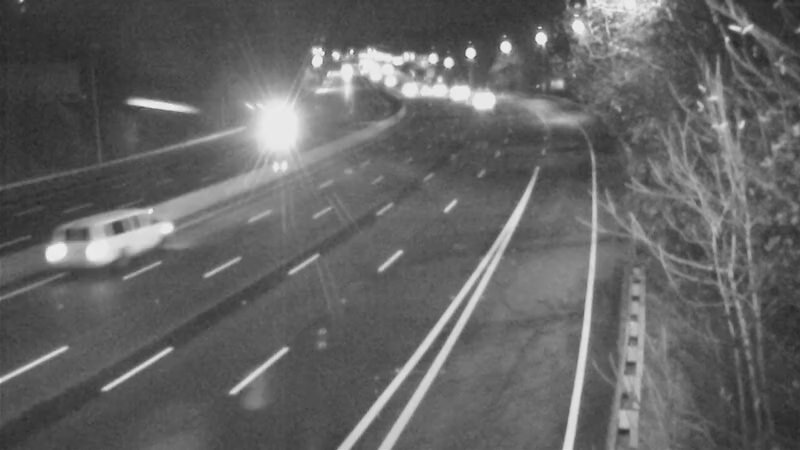vehicle: (64, 197, 144, 277), (385, 62, 435, 112), (410, 65, 460, 115), (400, 65, 450, 115), (434, 68, 484, 118), (456, 77, 506, 127), (256, 105, 306, 155)
